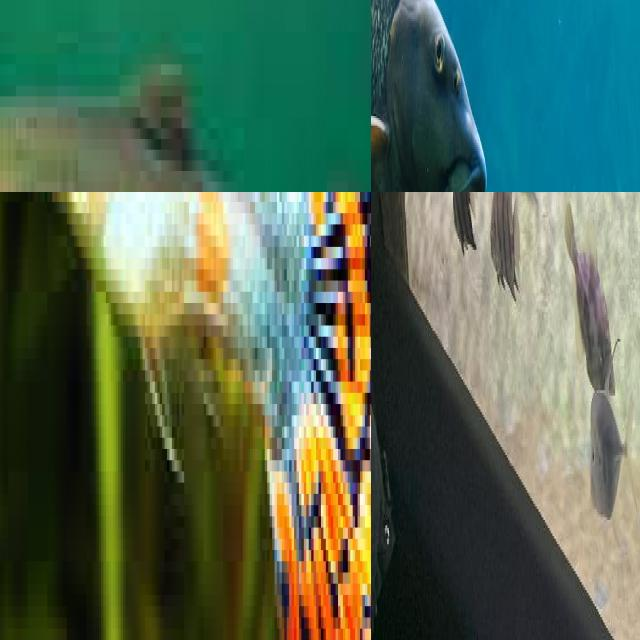fish: (6, 192, 371, 640), (0, 0, 371, 192), (371, 0, 640, 192)
